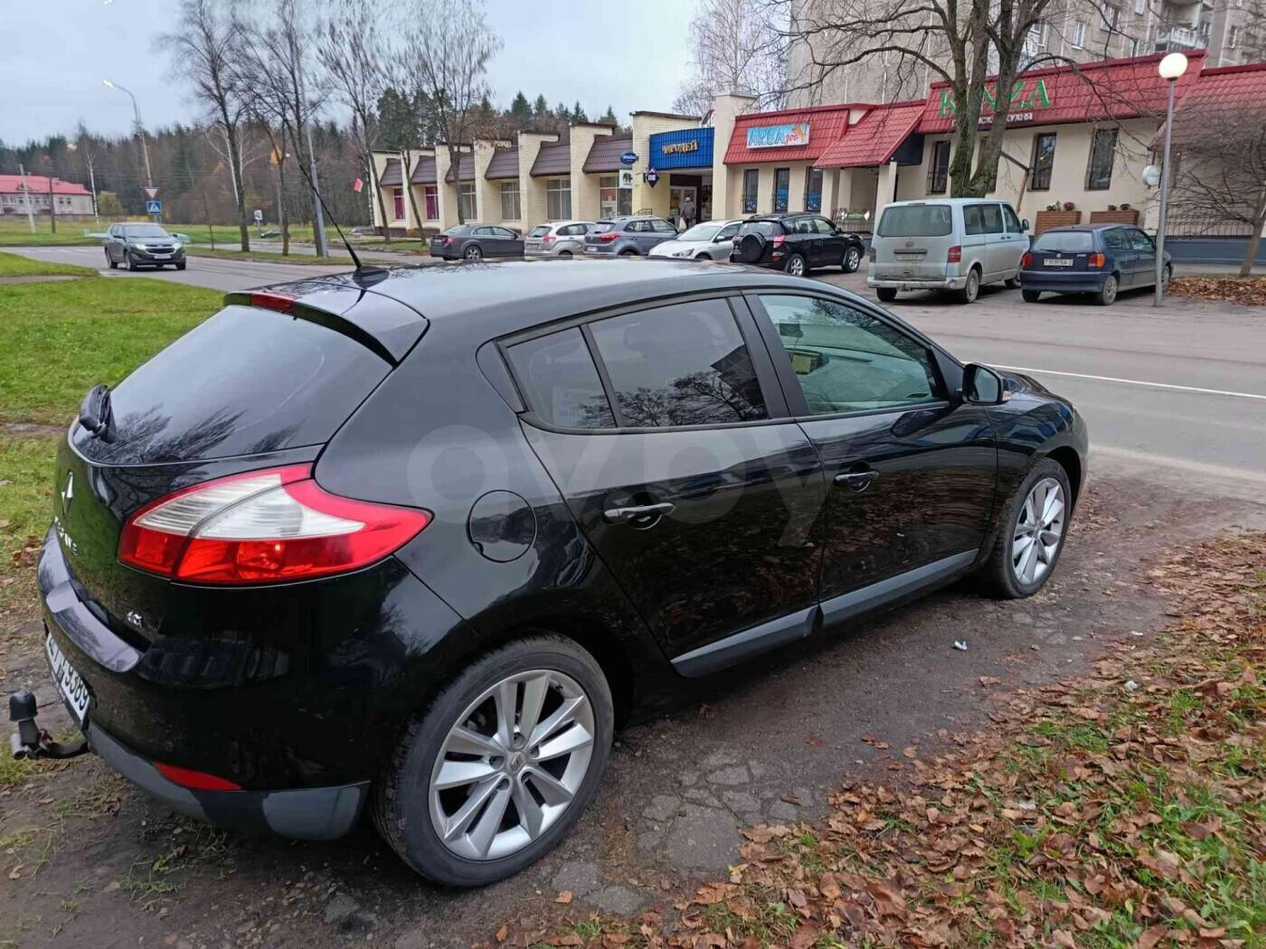Megane_2008-2014: (30, 253, 1099, 882)
